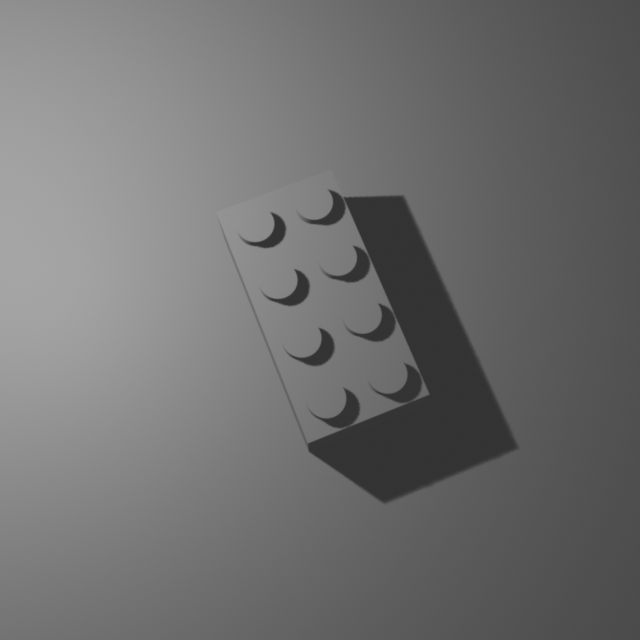lego_2x4: (215, 164, 431, 452)
